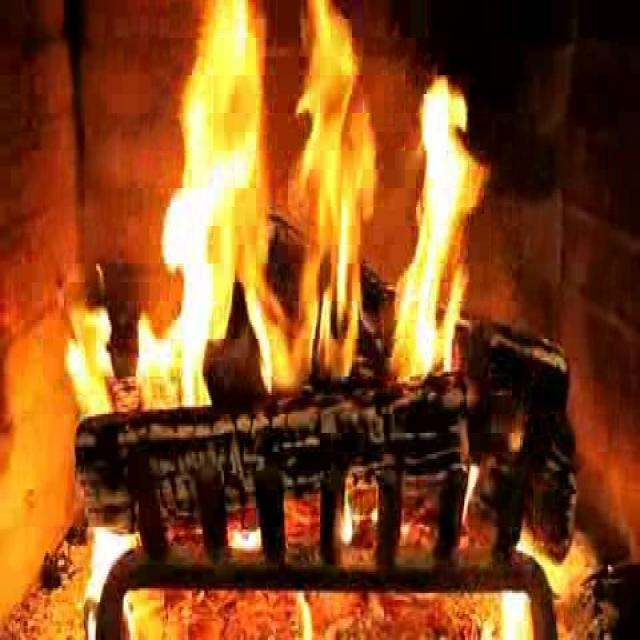Fire: (12, 0, 640, 445)
